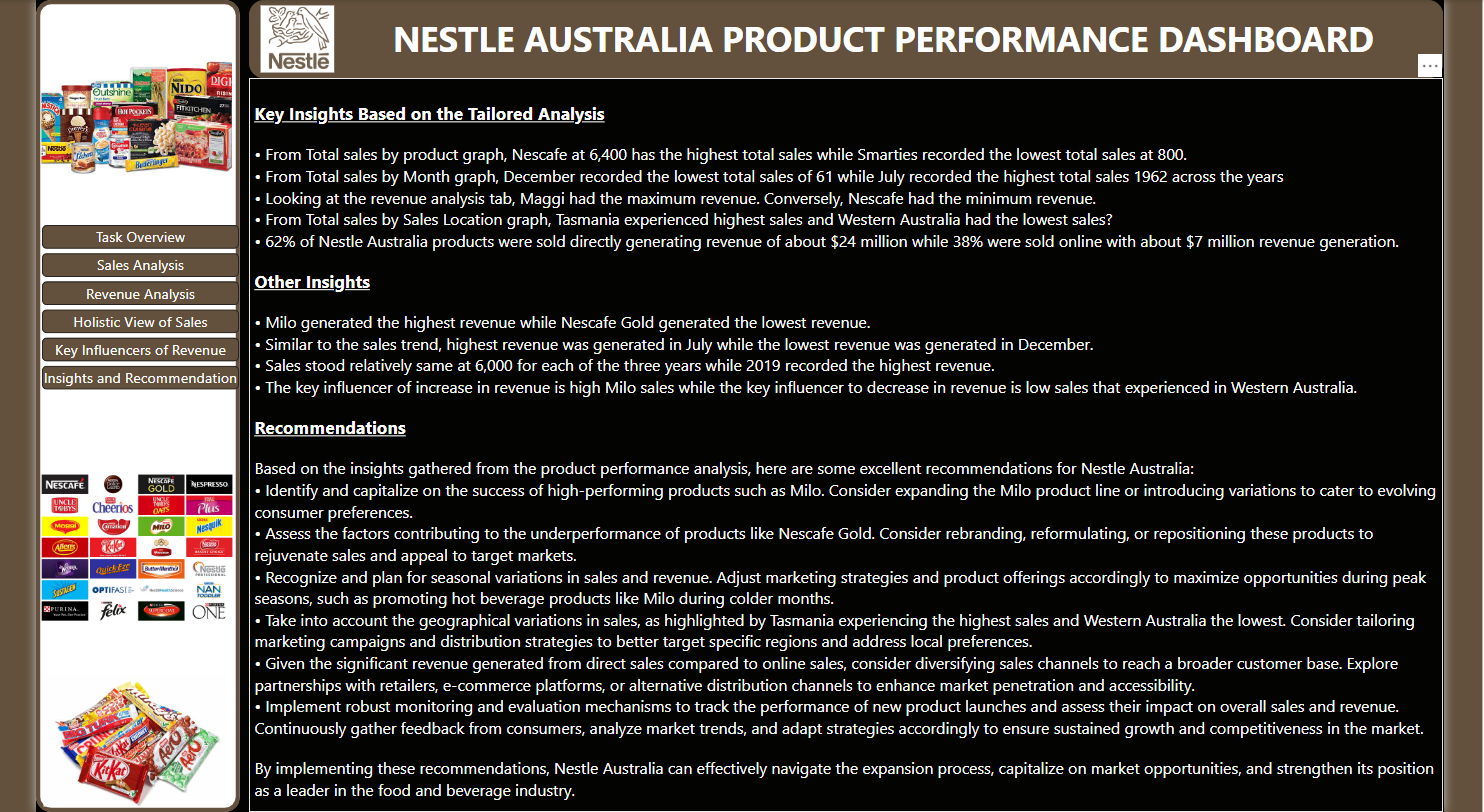

This screenshot's page, from the dashboard's own definition file:
{"tool":"powerbi","page":{"name":"Insights and Recommendation","canvas":[1300,750],"ordinal":5},"visuals":[{"type":"shape","box":[0,0,188.4,750],"z":0},{"type":"shape","box":[196.6,0,1103,72.3],"z":1000},{"type":"image","box":[188.4,0,105.2,72.3],"z":2000},{"type":"textbox","box":[280.8,8.2,1003.4,64],"z":3000},{"type":"image","box":[0,45.7,185.7,130.8],"z":4000},{"type":"image","box":[0,618.3,185.7,131.7],"z":5000},{"type":"pageNavigator","box":[5.5,207.6,182.9,157.3],"z":6000},{"type":"textbox","box":[196.6,72.3,1103,677.7],"z":7000},{"type":"image","box":[0,411.6,188.4,188.4],"z":8000}]}

Visuals, with their boxes on the page's 1300x750 design canvas (x1, y1, x2, y2). These are canvas units, not pixel positions in the 1484x812 screenshot, which may show the page scaled, cropped or inside an application window:
shape: [left=0, top=0, right=188, bottom=750]
shape: [left=197, top=0, right=1300, bottom=72]
image: [left=188, top=0, right=294, bottom=72]
textbox: [left=281, top=8, right=1284, bottom=72]
image: [left=0, top=46, right=186, bottom=176]
image: [left=0, top=618, right=186, bottom=750]
pageNavigator: [left=6, top=208, right=188, bottom=365]
textbox: [left=197, top=72, right=1300, bottom=750]
image: [left=0, top=412, right=188, bottom=600]
